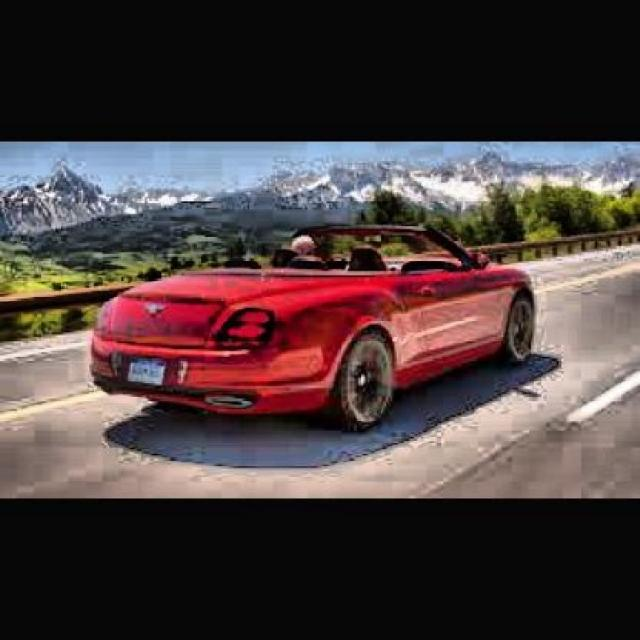red: (89, 220, 594, 388)
